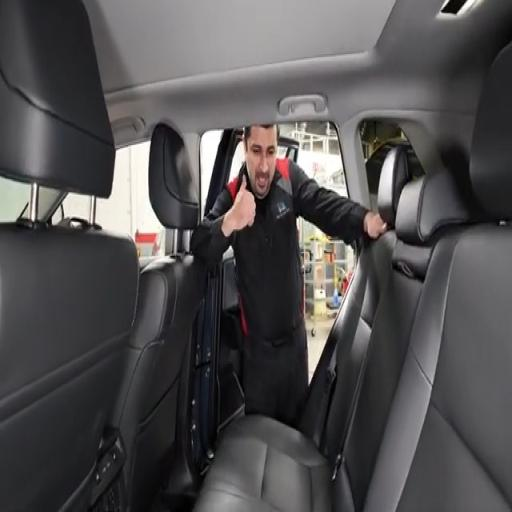door: (192, 248, 243, 465)
windshield: (0, 177, 30, 221)
